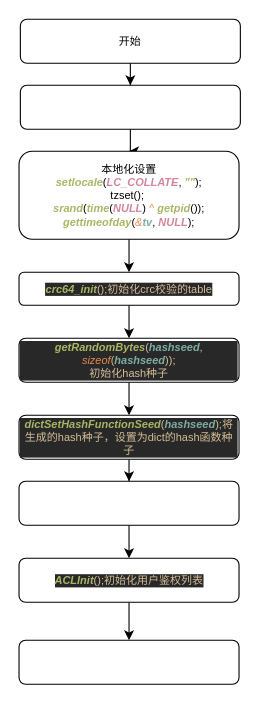
This 261x704 diagram has some shape labels left out. Each missing label, with the box of its shape:
initServerConfig ();初始化服务器配置，同时启动相应的进程: (18, 480, 239, 525)
int main ( int argc , char ** argv ): (19, 84, 240, 129)
moduleInitModulesSystem ();各类子系统加载: (18, 639, 239, 684)
